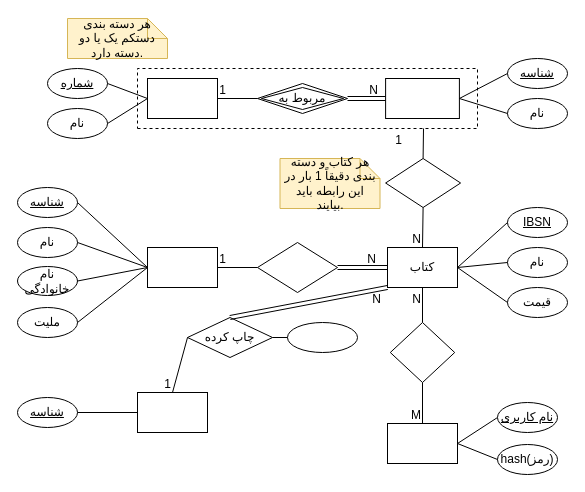
This 585x492 diagram has some shape labels left out. Here are the shapes that lost their labels. From the top down, the centre of each, then its label:
At point 182,98: "دسته بندی".
At point 422,98: "دسته".
At point 423,183: "متعلق به".
At point 182,267: "نویسنده".
At point 297,267: "نوشته".
At point 322,337: "تاریخ انتشار".
At point 422,352: "علاقه دارد".
At point 172,412: "ناشر".
At point 422,443: "کاربر".
